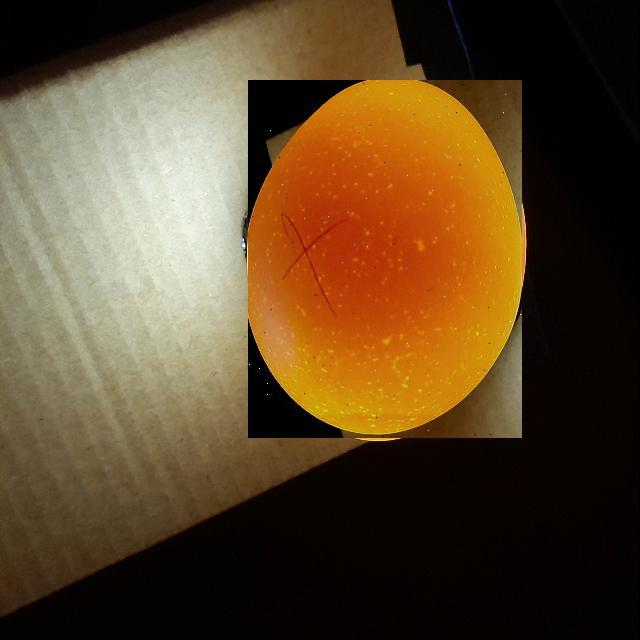AA - Premium: (248, 80, 522, 438)
